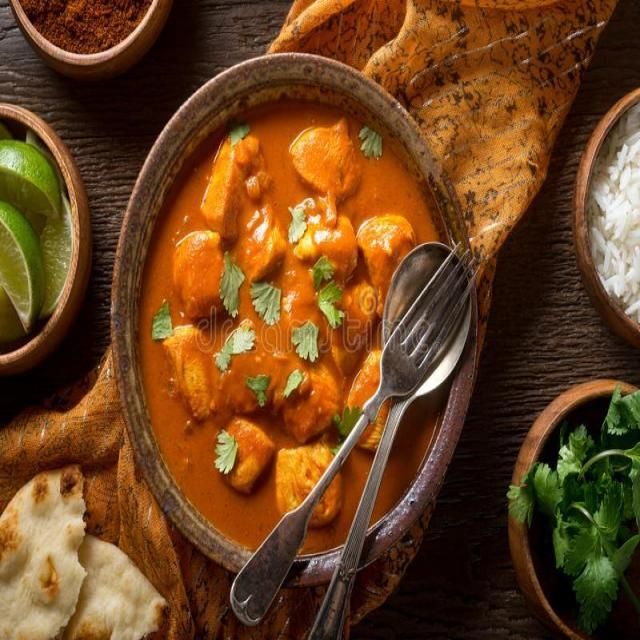chicken: (176, 100, 437, 550)
